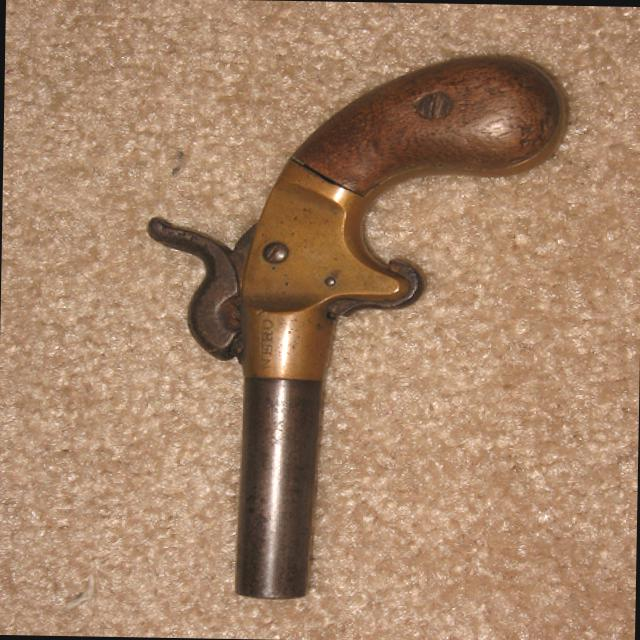handgun: (136, 53, 564, 610)
